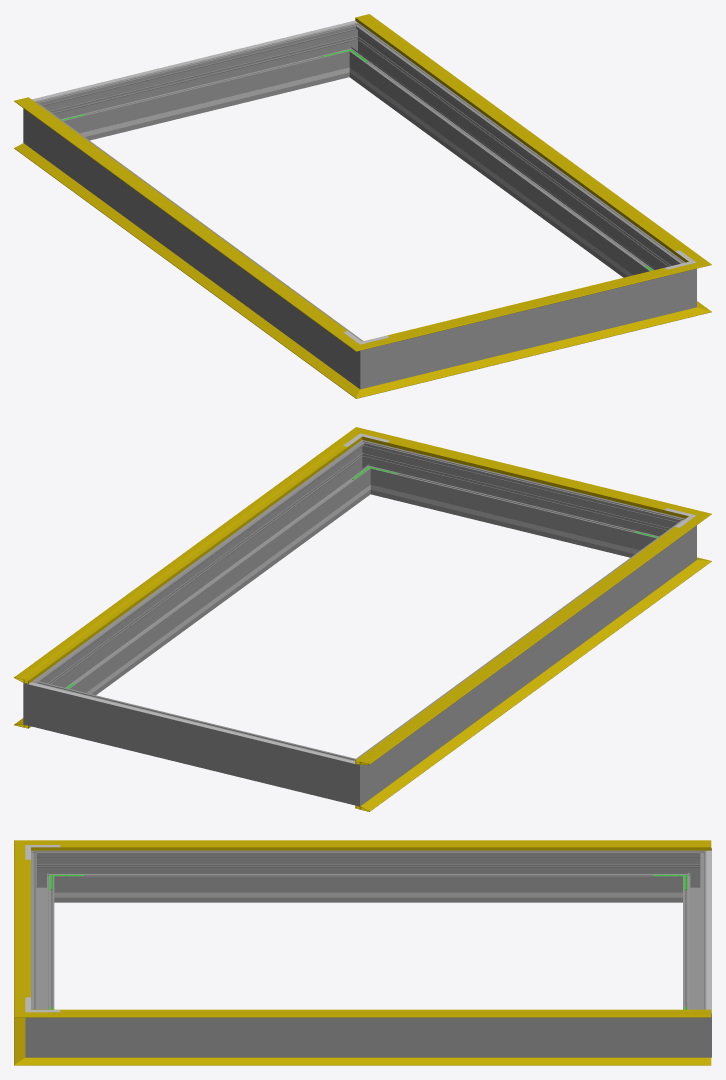
3 views of the same model, one above another, from view 1: azimuth 30°, elevation 25°; view 2: azimuth 150°, elevation 25°; view 3: azimuth 270°, elevation 25° (orthographic).
Visible parts, largest first — view 1: 3DGeom-297, 3DGeom-276, 3DGeom-268, 3DGeom-298, 3DGeom-145, 3DGeom-38, 3DGeom-147, 3DGeom-28, 3DGeom-141, 3DGeom-270, 3DGeom-154, 3DGeom-152 (+7 smaller); view 2: 3DGeom-297, 3DGeom-298, 3DGeom-276, 3DGeom-268, 3DGeom-145, 3DGeom-38, 3DGeom-147, 3DGeom-141, 3DGeom-278, 3DGeom-152, 3DGeom-154, 3DGeom-237 (+6 smaller); view 3: 3DGeom-268, 3DGeom-297, 3DGeom-147, 3DGeom-30, 3DGeom-145, 3DGeom-232, 3DGeom-276, 3DGeom-298, 3DGeom-152, 3DGeom-154, 3DGeom-141, 3DGeom-290 (+7 smaller).
Boxes of the visible parts, bbox=[...] form: 3DGeom-297: bbox=[352, 33, 674, 277]; 3DGeom-276: bbox=[55, 28, 344, 140]; 3DGeom-268: bbox=[40, 111, 352, 376]; 3DGeom-298: bbox=[390, 276, 667, 381]; 3DGeom-145: bbox=[355, 14, 694, 258]; 3DGeom-38: bbox=[14, 143, 347, 385]; 3DGeom-147: bbox=[14, 98, 348, 338]; 3DGeom-28: bbox=[380, 312, 681, 391]; 3DGeom-141: bbox=[380, 267, 682, 344]; 3DGeom-270: bbox=[343, 333, 389, 389]; 3DGeom-154: bbox=[24, 97, 347, 331]; 3DGeom-152: bbox=[356, 16, 678, 250]; 3DGeom-297: bbox=[45, 450, 367, 695]; 3DGeom-298: bbox=[375, 446, 664, 557]; 3DGeom-276: bbox=[53, 686, 335, 799]; 3DGeom-268: bbox=[368, 529, 679, 793]; 3DGeom-145: bbox=[14, 439, 353, 683]; 3DGeom-38: bbox=[355, 568, 694, 811]; 3DGeom-147: bbox=[355, 524, 694, 764]; 3DGeom-141: bbox=[377, 434, 681, 515]; 3DGeom-278: bbox=[330, 750, 376, 806]; 3DGeom-152: bbox=[24, 446, 347, 680]; 3DGeom-154: bbox=[356, 527, 678, 761]; 3DGeom-237: bbox=[86, 497, 353, 693]; 3DGeom-268: bbox=[60, 850, 676, 902]; 3DGeom-297: bbox=[60, 1017, 676, 1057]; 3DGeom-147: bbox=[49, 840, 711, 850]; 3DGeom-30: bbox=[49, 1057, 711, 1065]; 3DGeom-145: bbox=[49, 1009, 711, 1017]; 3DGeom-232: bbox=[88, 892, 649, 897]; 3DGeom-276: bbox=[683, 863, 706, 1009]; 3DGeom-298: bbox=[31, 863, 54, 1009]; 3DGeom-152: bbox=[60, 1010, 711, 1012]; 3DGeom-154: bbox=[60, 845, 711, 847]; 3DGeom-141: bbox=[14, 854, 25, 1002]; 3DGeom-290: bbox=[25, 1001, 60, 1057].
Size of the model in its own units: 1.83 by 0.2357 by 3.05.
